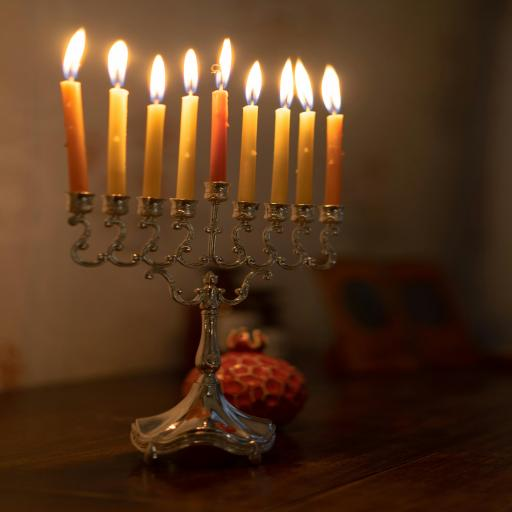candlelight: (172, 42, 245, 185), (52, 19, 100, 199), (96, 34, 133, 245), (170, 49, 200, 225), (138, 54, 168, 225), (204, 48, 232, 230), (319, 73, 344, 233)
